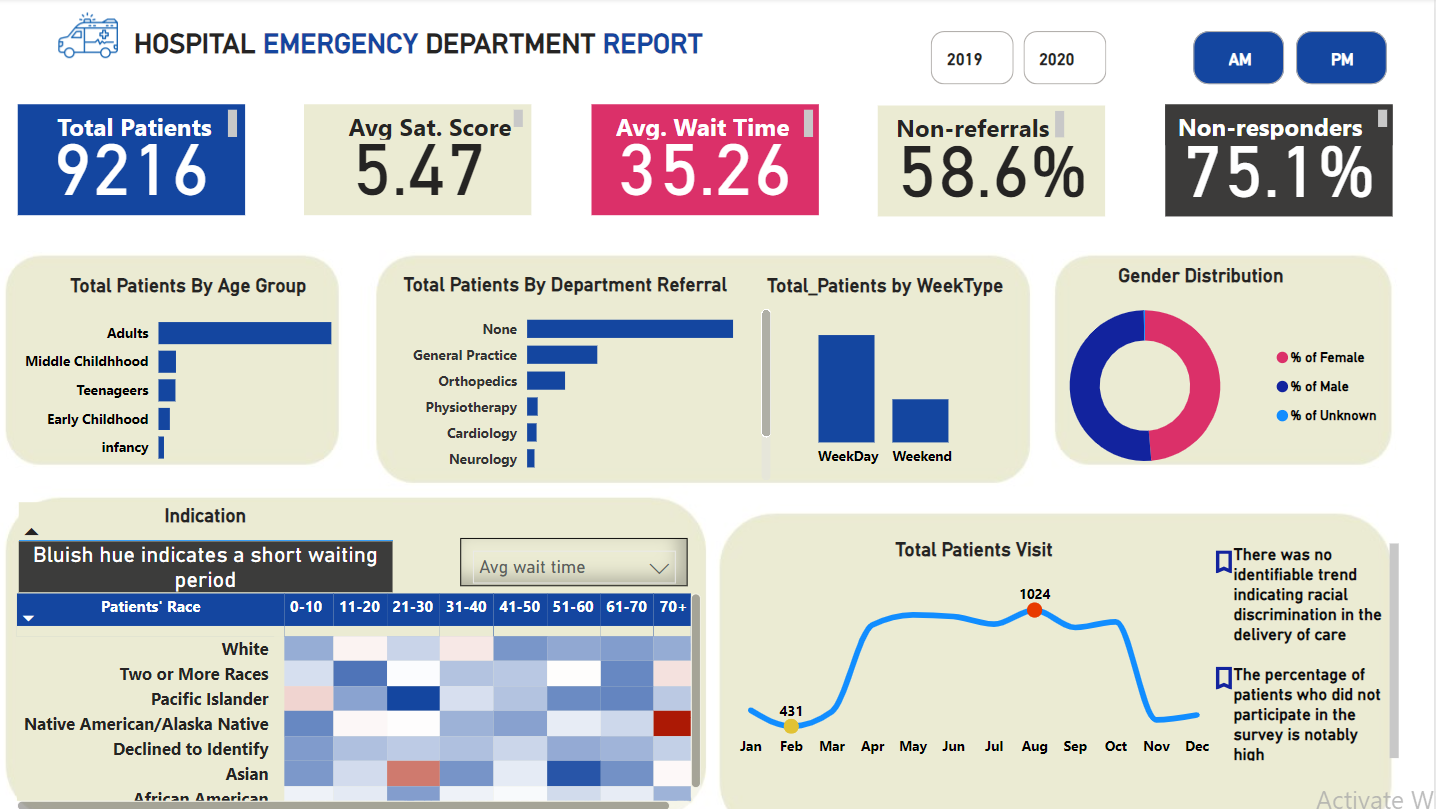

The dashboard page shown, as its layout file describes it:
{"tool":"powerbi","page":{"name":"Page 1","canvas":[1280,720],"ordinal":0},"visuals":[{"type":"slicer","fields":{"Values":["Parameter.Parameter"]},"box":[423.3,475,200.1,42],"z":0},{"type":"pivotTable","fields":{"Values":["Calculations.Avg wait time"],"Rows":["Hospital ER.patient_race"],"Columns":["Hospital ER.Age_Bucket"]},"box":[28.6,519,611.4,201.2],"z":1000},{"type":"clusteredBarChart","title":"Total Patients By Age Group","fields":{"Category":["Hospital ER.Age_group"],"Y":["Calculations.Total_Patients"]},"box":[34.1,242.8,300.2,178.1],"z":2000},{"type":"lineChart","title":"Total Patients Visit","fields":{"Category":["Date.MONTH"],"Y":["Calculations.Total_Patients","Calculations.Max_Min_Value"]},"box":[659.7,475,431,201.2],"z":3000},{"type":"tableEx","fields":{"Values":["Calculations.Heatmap_caption"]},"box":[28.6,438.7,349.7,93.5],"z":4000},{"type":"advancedSlicerVisual","fields":{"Values":["Hospital ER.AM/PM"]},"box":[1063.3,24.2,180.3,57.2],"z":5000},{"type":"card","fields":{"Values":["Calculations.Total_Patients"]},"box":[34.1,93.4,200.1,97.8],"z":6000},{"type":"barChart","title":"Total Patients By Department Referral","fields":{"Category":["Hospital ER.department_referral"],"Y":["Calculations.Total_Patients"]},"box":[367.9,242,333.3,187.6],"z":7000},{"type":"textbox","box":[112.2,20.9,548.7,45.1],"z":8000},{"type":"donutChart","title":"Gender Distribution","fields":{"Y":["Calculations.% of Female","Calculations.% of Male","Calculations.% of Unknown"]},"box":[906.1,234.1,337.6,194.8],"z":9000},{"type":"card","fields":{"Values":["Calculations.%_non_responders"]},"box":[1043.2,94.5,200.1,97.8],"z":10000},{"type":"card","fields":{"Values":["Calculations.%_of_nonreferred_patients"]},"box":[790.9,94.3,200.1,97.8],"z":11000},{"type":"card","fields":{"Values":["Calculations.average_waittime"]},"box":[538.6,93.7,200.1,97.8],"z":12000},{"type":"card","fields":{"Values":["Calculations.AVG-satisfactory_score"]},"box":[286.4,94,200.1,97.8],"z":13000},{"type":"textbox","box":[63.8,93.4,168.2,36.3],"z":14000},{"type":"textbox","box":[1043.5,93.5,200.1,36.3],"z":15000},{"type":"textbox","box":[791,94.7,169,36],"z":16000},{"type":"textbox","box":[555.1,93.4,183.6,36.3],"z":17000},{"type":"textbox","box":[319.9,93.4,163.8,36.3],"z":18000},{"type":"image","box":[44,0,103.4,66],"z":19000},{"type":"advancedSlicerVisual","fields":{"Values":["Table.Year"]},"box":[832.4,24.2,164.9,57.2],"z":20000},{"type":"clusteredColumnChart","fields":{"Y":["Calculations.Total_Patients"],"Category":["Date.WeekType"]},"box":[675.1,243,244.1,178.1],"z":21000},{"type":"textbox","box":[1098.5,475,155,201.2],"z":22000},{"type":"actionButton","box":[1073.2,473.9,50.6,44],"z":23000},{"type":"actionButton","box":[1073.2,576.2,50.6,44],"z":24000}]}

Visuals, with their boxes in screenshot pixels (x1, y1, x2, y2), scaled from the page's 1280x720 canvas onto the 1436x809 screenshot:
slicer - Parameter.Parameter: (475, 534, 699, 581)
pivotTable - Calculations.Avg wait time x Hospital ER.patient_race: (32, 583, 718, 808)
"Total Patients By Age Group" clusteredBarChart: (38, 273, 375, 473)
"Total Patients Visit" lineChart: (740, 534, 1224, 760)
tableEx - Calculations.Heatmap_caption: (32, 493, 424, 598)
advancedSlicerVisual - Hospital ER.AM/PM: (1193, 27, 1395, 91)
card - Calculations.Total_Patients: (38, 105, 263, 215)
"Total Patients By Department Referral" barChart: (413, 272, 787, 483)
textbox: (126, 23, 741, 74)
"Gender Distribution" donutChart: (1017, 263, 1395, 482)
card - Calculations.%_non_responders: (1170, 106, 1395, 216)
card - Calculations.%_of_nonreferred_patients: (887, 106, 1112, 216)
card - Calculations.average_waittime: (604, 105, 829, 215)
card - Calculations.AVG-satisfactory_score: (321, 106, 546, 216)
textbox: (72, 105, 260, 146)
textbox: (1171, 105, 1395, 146)
textbox: (887, 106, 1077, 147)
textbox: (623, 105, 829, 146)
textbox: (359, 105, 543, 146)
image: (49, 0, 165, 74)
advancedSlicerVisual - Table.Year: (934, 27, 1119, 91)
clusteredColumnChart - Calculations.Total_Patients x Date.WeekType: (757, 273, 1031, 473)
textbox: (1232, 534, 1406, 760)
actionButton: (1204, 532, 1261, 582)
actionButton: (1204, 647, 1261, 697)
